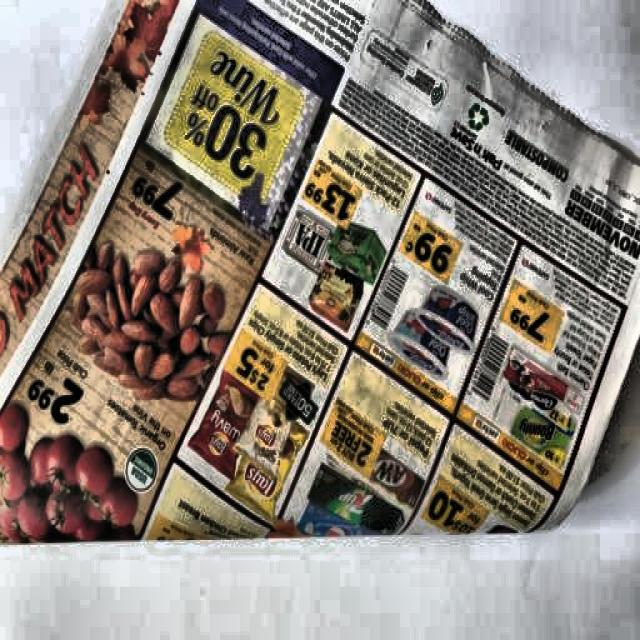paper: (0, 0, 631, 545)
